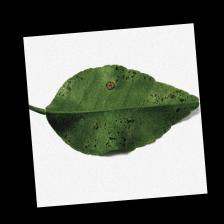canker: (96, 62, 188, 159)
